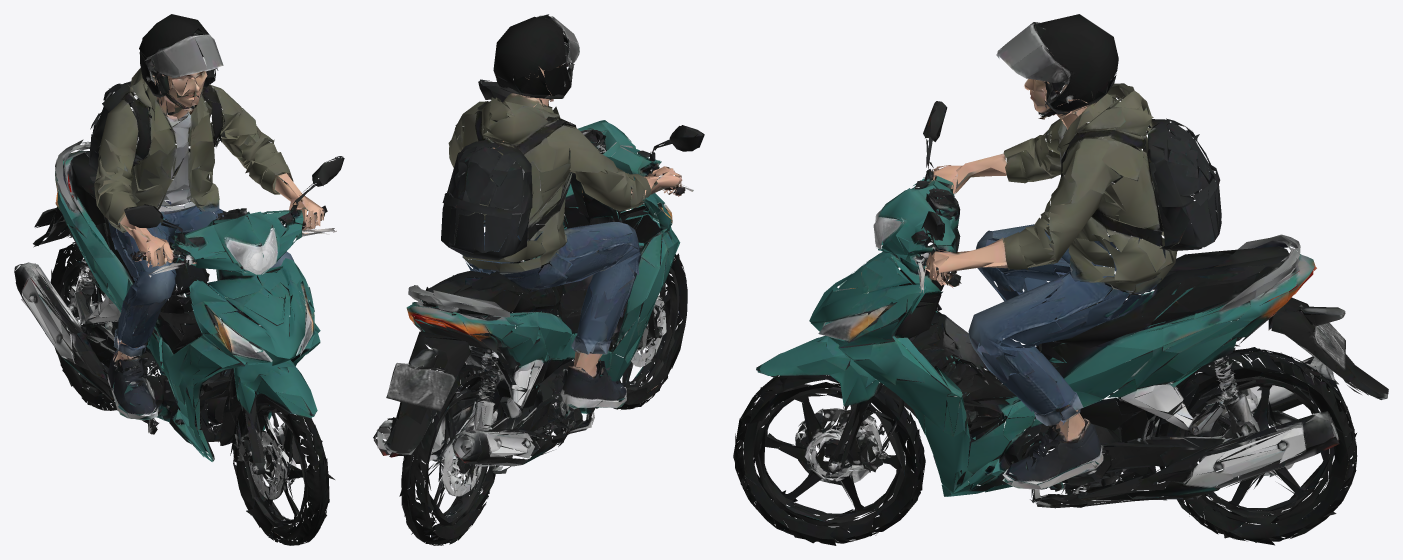
The model's file is rider_m.glb.
The picture shows the model from 3 angles, left to right: view 1: azimuth 30°, elevation 25°; view 2: azimuth 150°, elevation 25°; view 3: azimuth 270°, elevation 25°; orthographic projection. The views are drawn at different scales.
Parts seen in each view (by area): view 1: sc1_rider_m_a; view 2: sc1_rider_m_a; view 3: sc1_rider_m_a.
Boxes of the visible parts, x1,y1,x2,y2 form: sc1_rider_m_a: [14, 14, 344, 545]; sc1_rider_m_a: [373, 14, 704, 545]; sc1_rider_m_a: [733, 14, 1388, 545].
Size of the model in its own units: 0.87 by 1.7 by 1.92.
Materials: 1 (1 with a texture image).
